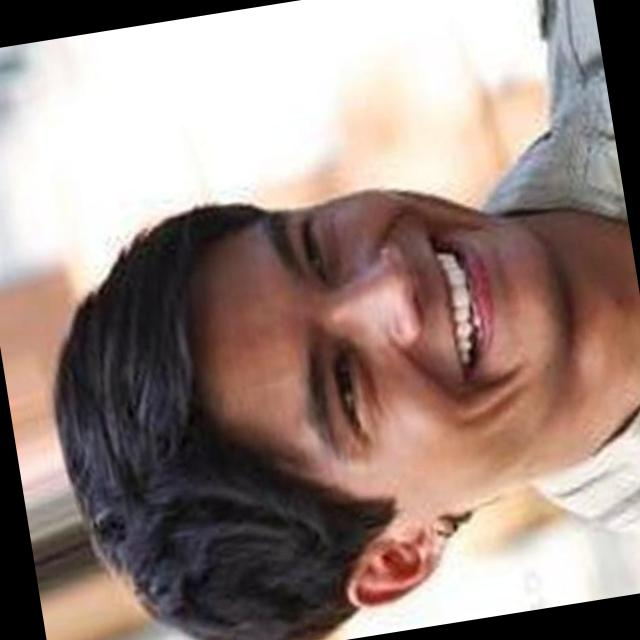bareface: (74, 130, 626, 632)
